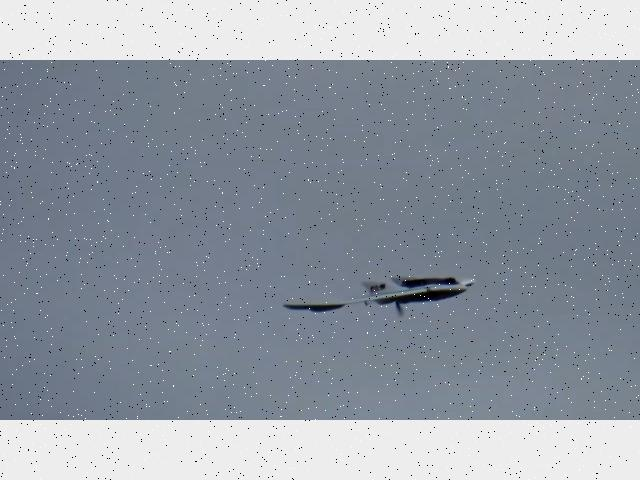Anti-Drone: (282, 272, 478, 314)
